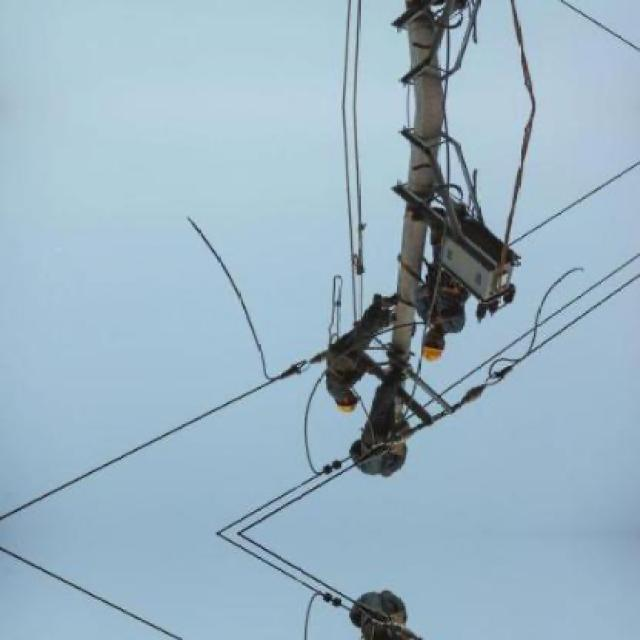con casco: (318, 390, 368, 428), (416, 332, 457, 372)
